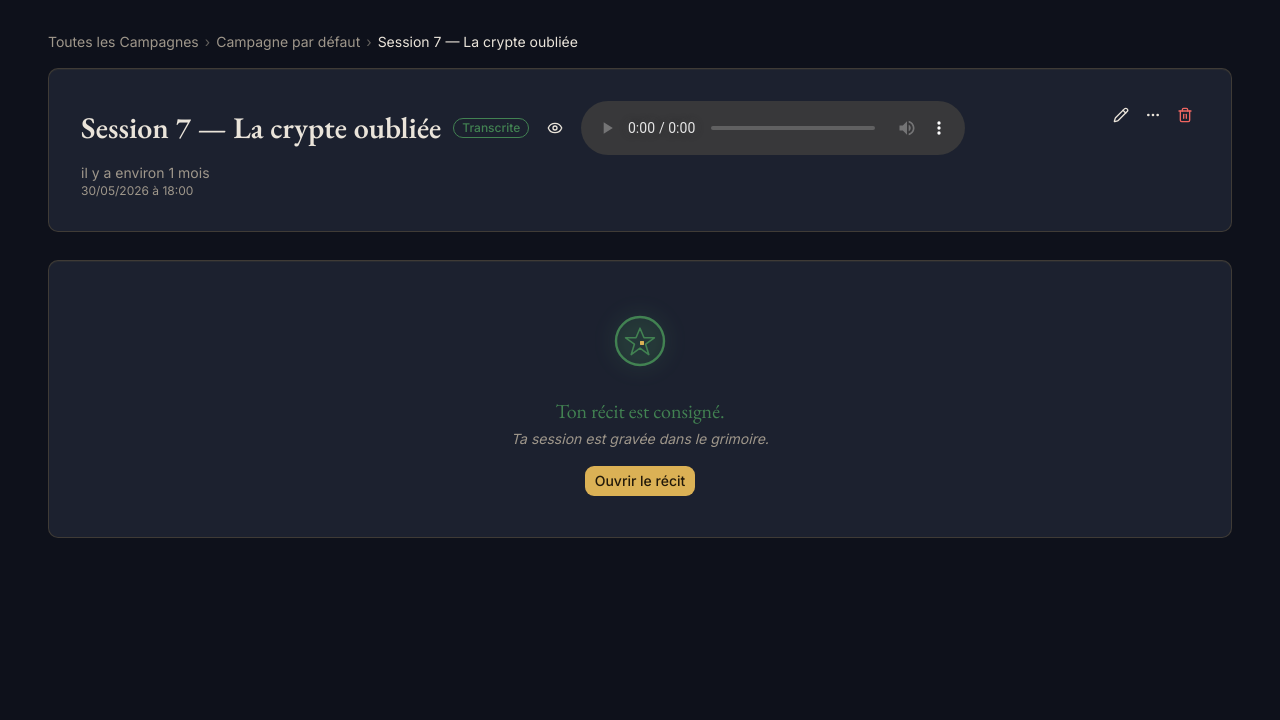
/jdr/campaigns/[campId]/sessions/[sid] page › Story 4.13 / 4.21 — Transcription viewer (in pop-up) › renders canonical Markdown for a transcribed diarised session
This screenshot has width=1280, height=720.
Click the button named "Afficher la transcription". click: (555,128)
box: [541,114,569,142]
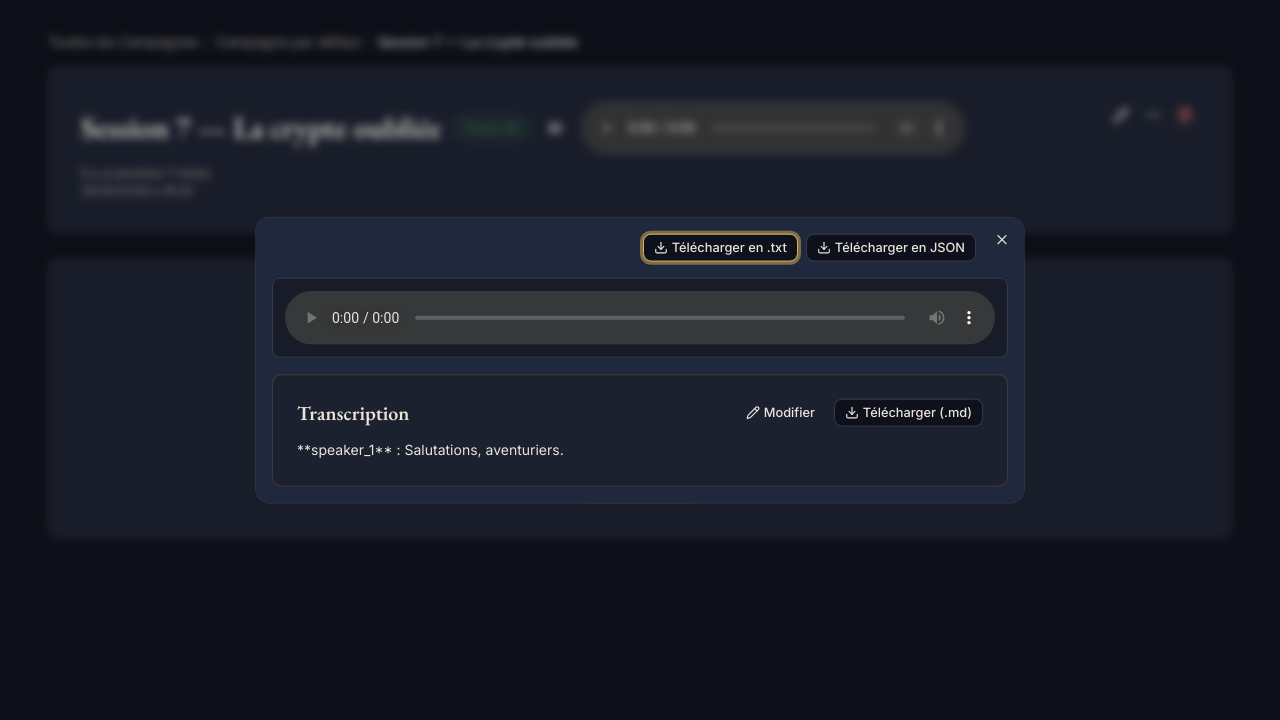
Check: the text "**speaker_1** : Salutations, aventuriers." is shown, box [297,441,564,458]
